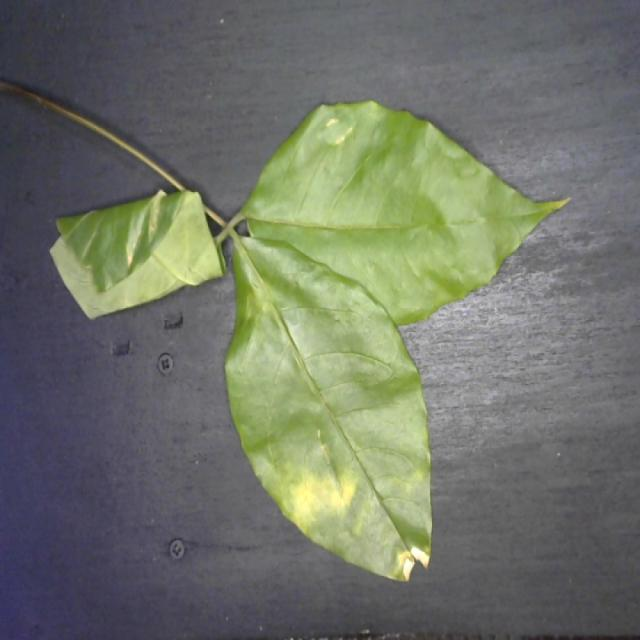biodegradable: (47, 80, 574, 588)
